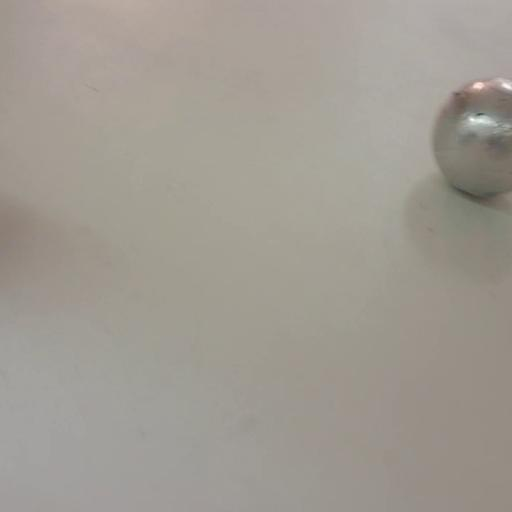alive: (429, 77, 512, 197)
